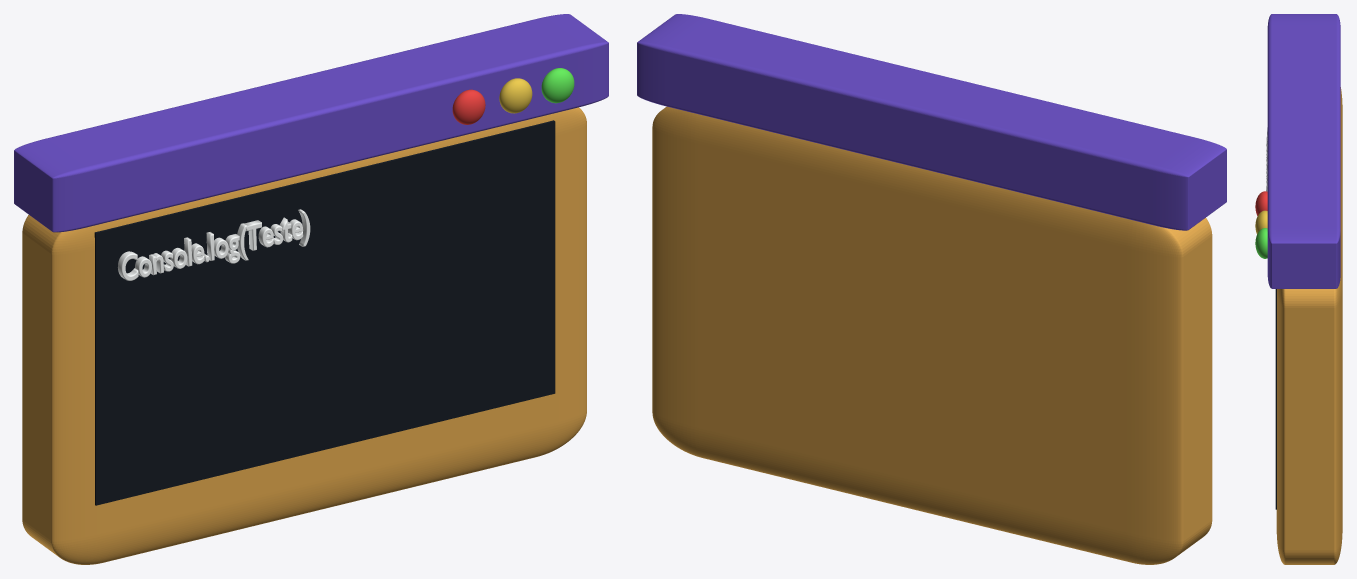
The model's file is dev.glb.
3 renders of one model, left to right at view 1: azimuth 30°, elevation 25°; view 2: azimuth 150°, elevation 25°; view 3: azimuth 270°, elevation 25°, orthographic. The views are drawn at different scales.
Parts seen in each view (by area): view 1: TelaPreta, Cube, Cube.002, Text.001, Sphere.002, Sphere.001, Sphere; view 2: Cube, Cube.002; view 3: Cube.002, Cube, TelaPreta, Sphere, Sphere.002, Sphere.001.
Part boxes in pixels (x1,y1,x2,y2): TelaPreta: (94, 120, 555, 505); Cube: (22, 107, 586, 564); Cube.002: (14, 14, 608, 232); Text.001: (118, 209, 310, 280); Sphere.002: (452, 89, 485, 124); Sphere.001: (499, 78, 532, 113); Sphere: (541, 68, 574, 103); Cube: (652, 106, 1212, 564); Cube.002: (637, 14, 1226, 230); Cube.002: (1267, 14, 1340, 288); Cube: (1276, 87, 1342, 564); TelaPreta: (1275, 289, 1276, 509); Sphere: (1255, 228, 1267, 258); Sphere.002: (1255, 191, 1267, 215); Sphere.001: (1255, 210, 1267, 234).
Bounding box in the file's own units: 2.06 × 1.44 × 0.3305.
